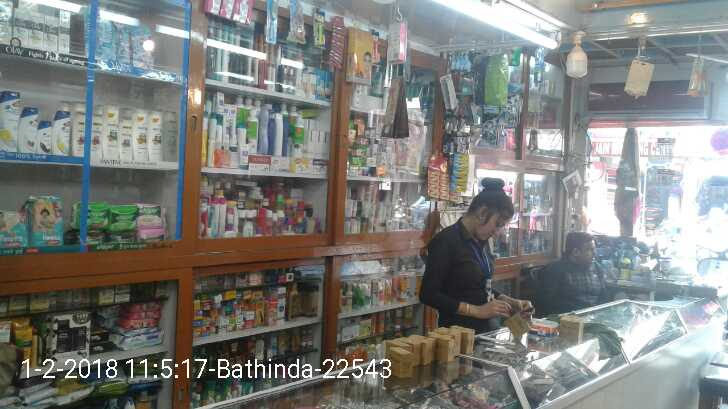venus: (130, 28, 153, 64), (112, 22, 128, 63)
